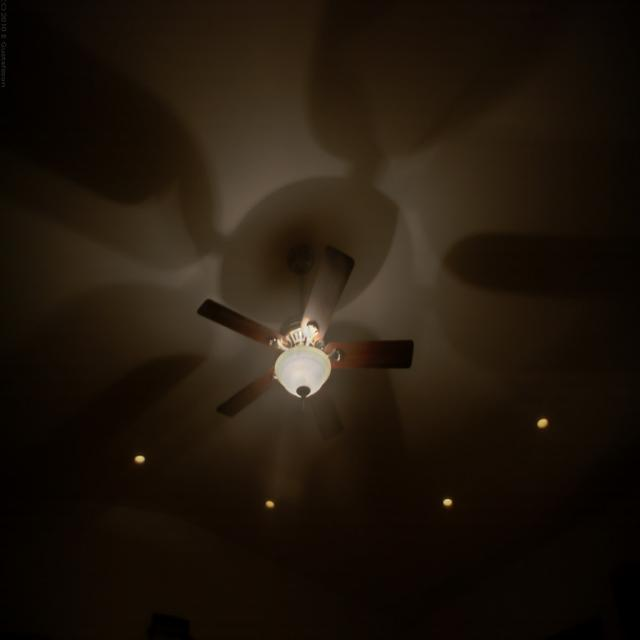Bulb: (196, 242, 413, 414)
